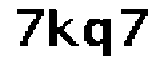7: (116, 5, 153, 51), (13, 4, 45, 51)
k: (47, 5, 80, 53)
q: (81, 13, 114, 60)
